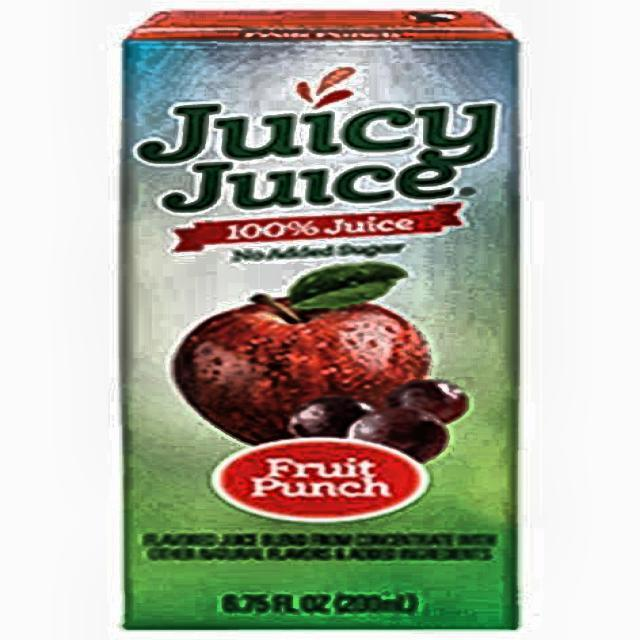cardboard: (118, 8, 522, 630)
